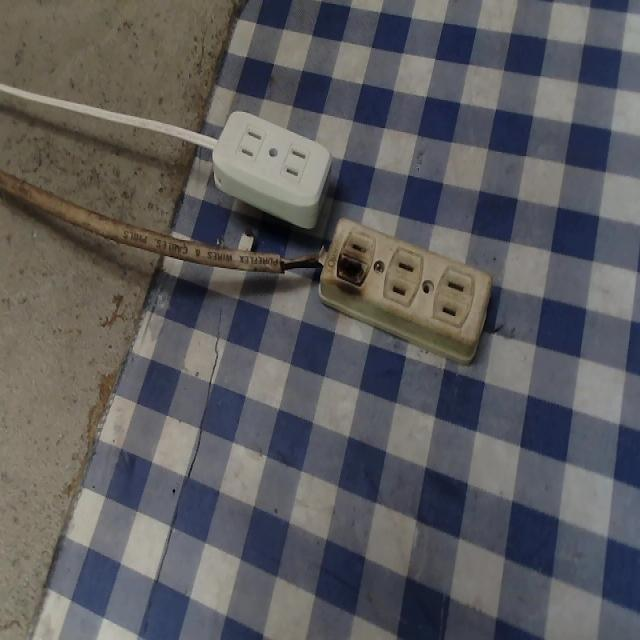-: (328, 244, 373, 297)
